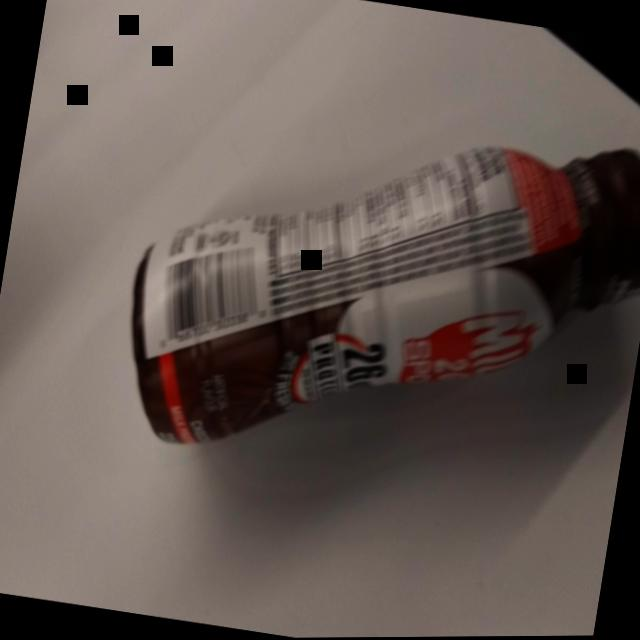chocolate_drink: (95, 64, 640, 528)
